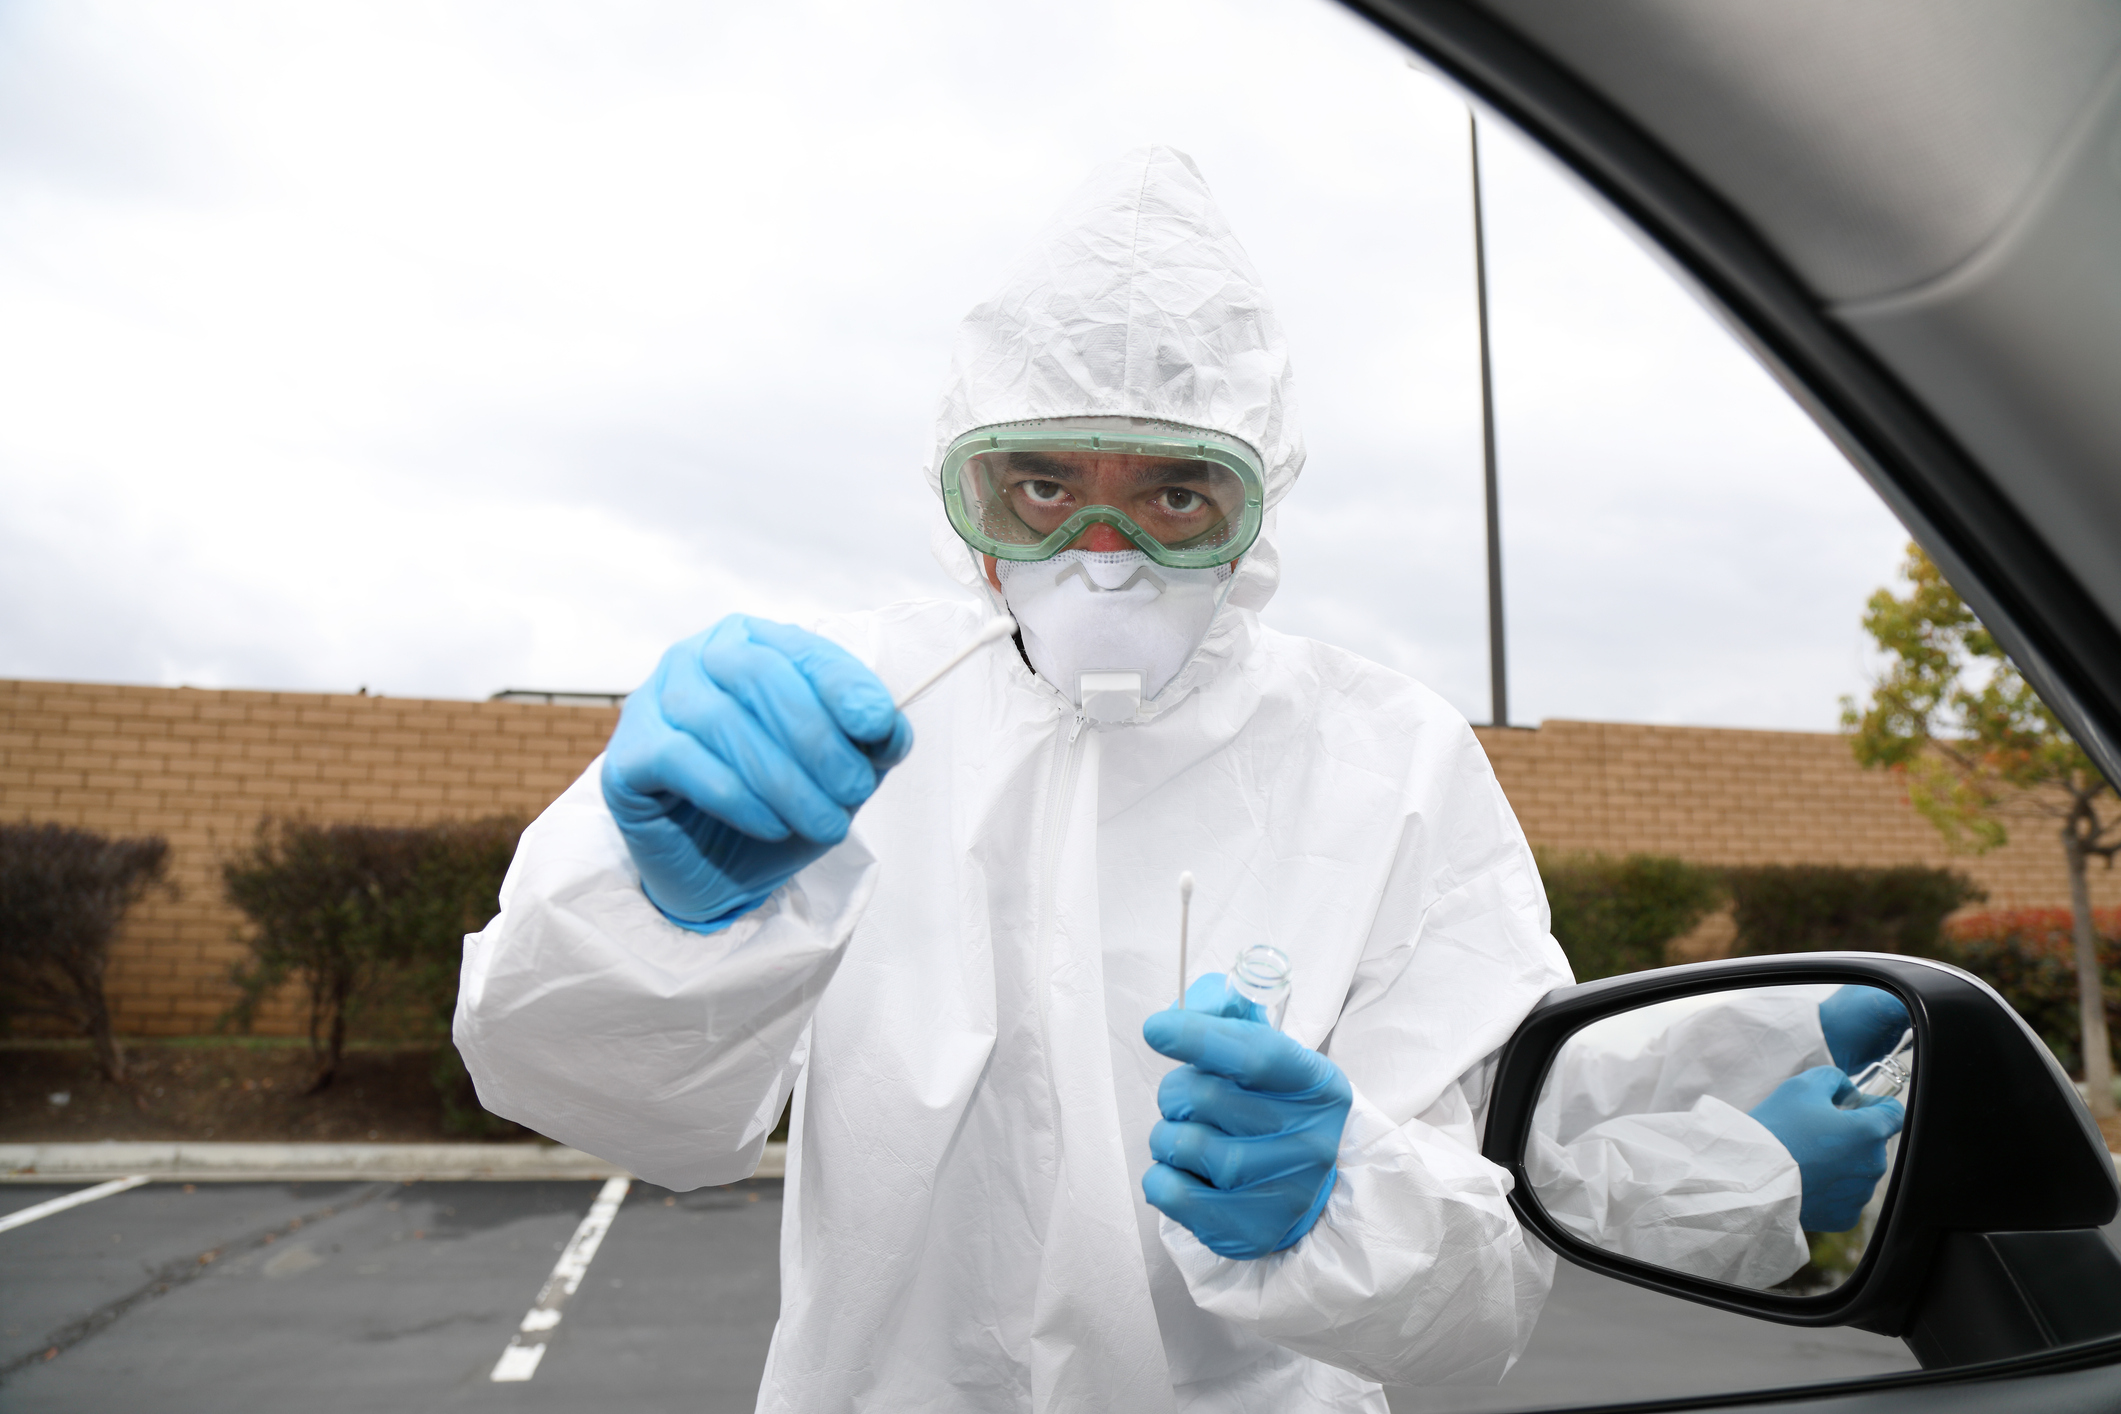Coverall: (569, 617, 1502, 1414)
Gloves: (592, 605, 925, 952), (1121, 972, 1359, 1268), (1759, 1064, 1896, 1219)
Goggles: (935, 417, 1265, 572)
with_mask: (984, 499, 1249, 738)
